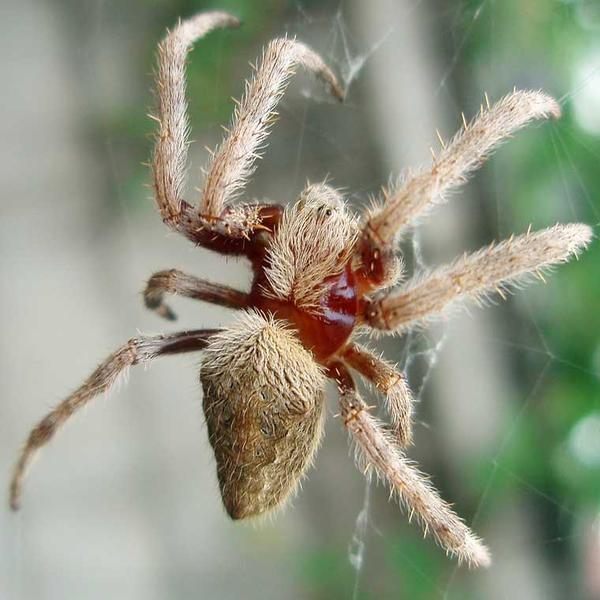Garden Orb Weaver Spider: (33, 23, 565, 568)
